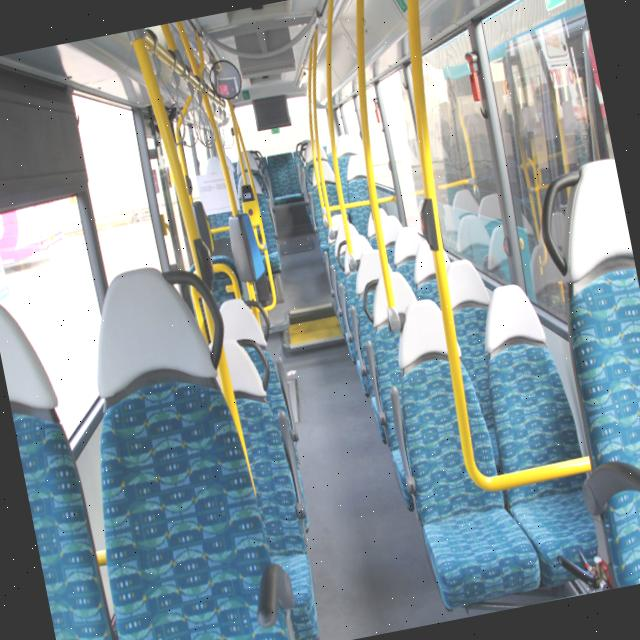empty-seat-frontal: (374, 286, 548, 614)
